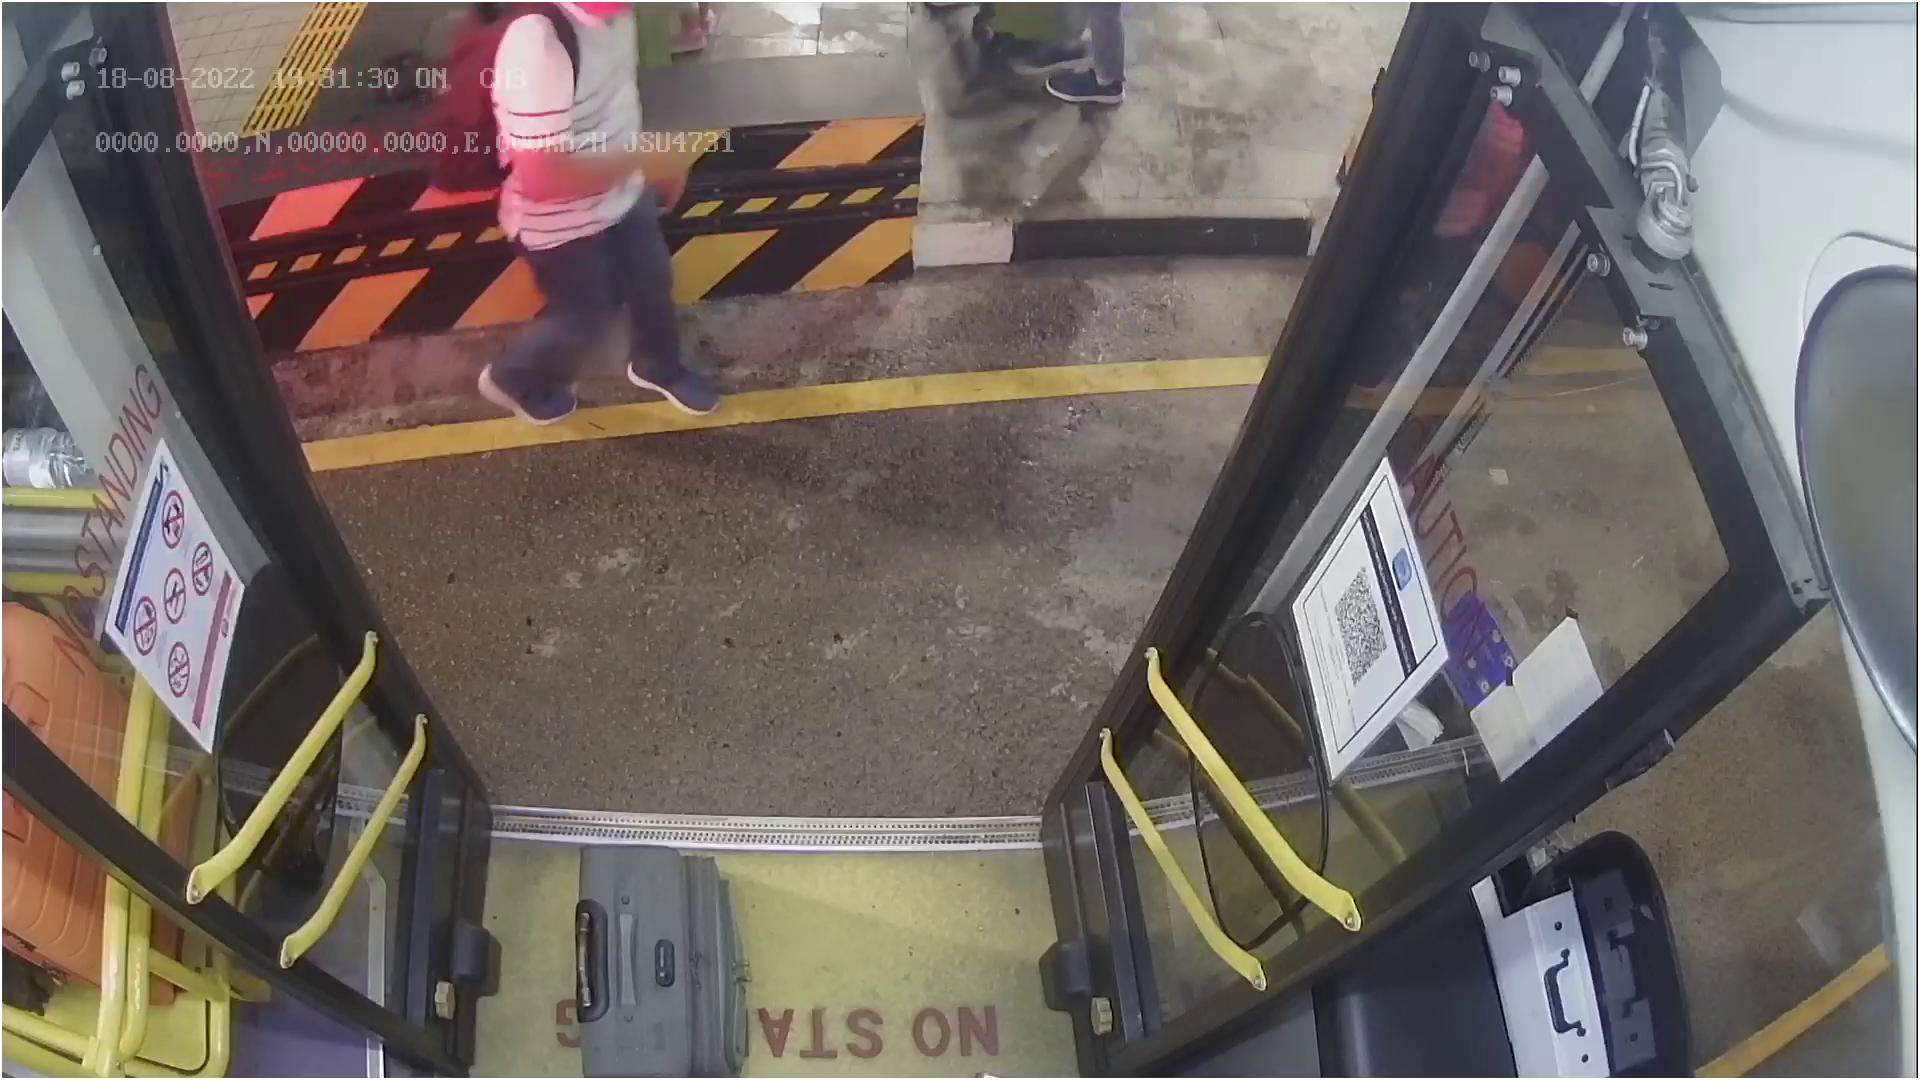open: (127, 0, 1403, 164)
